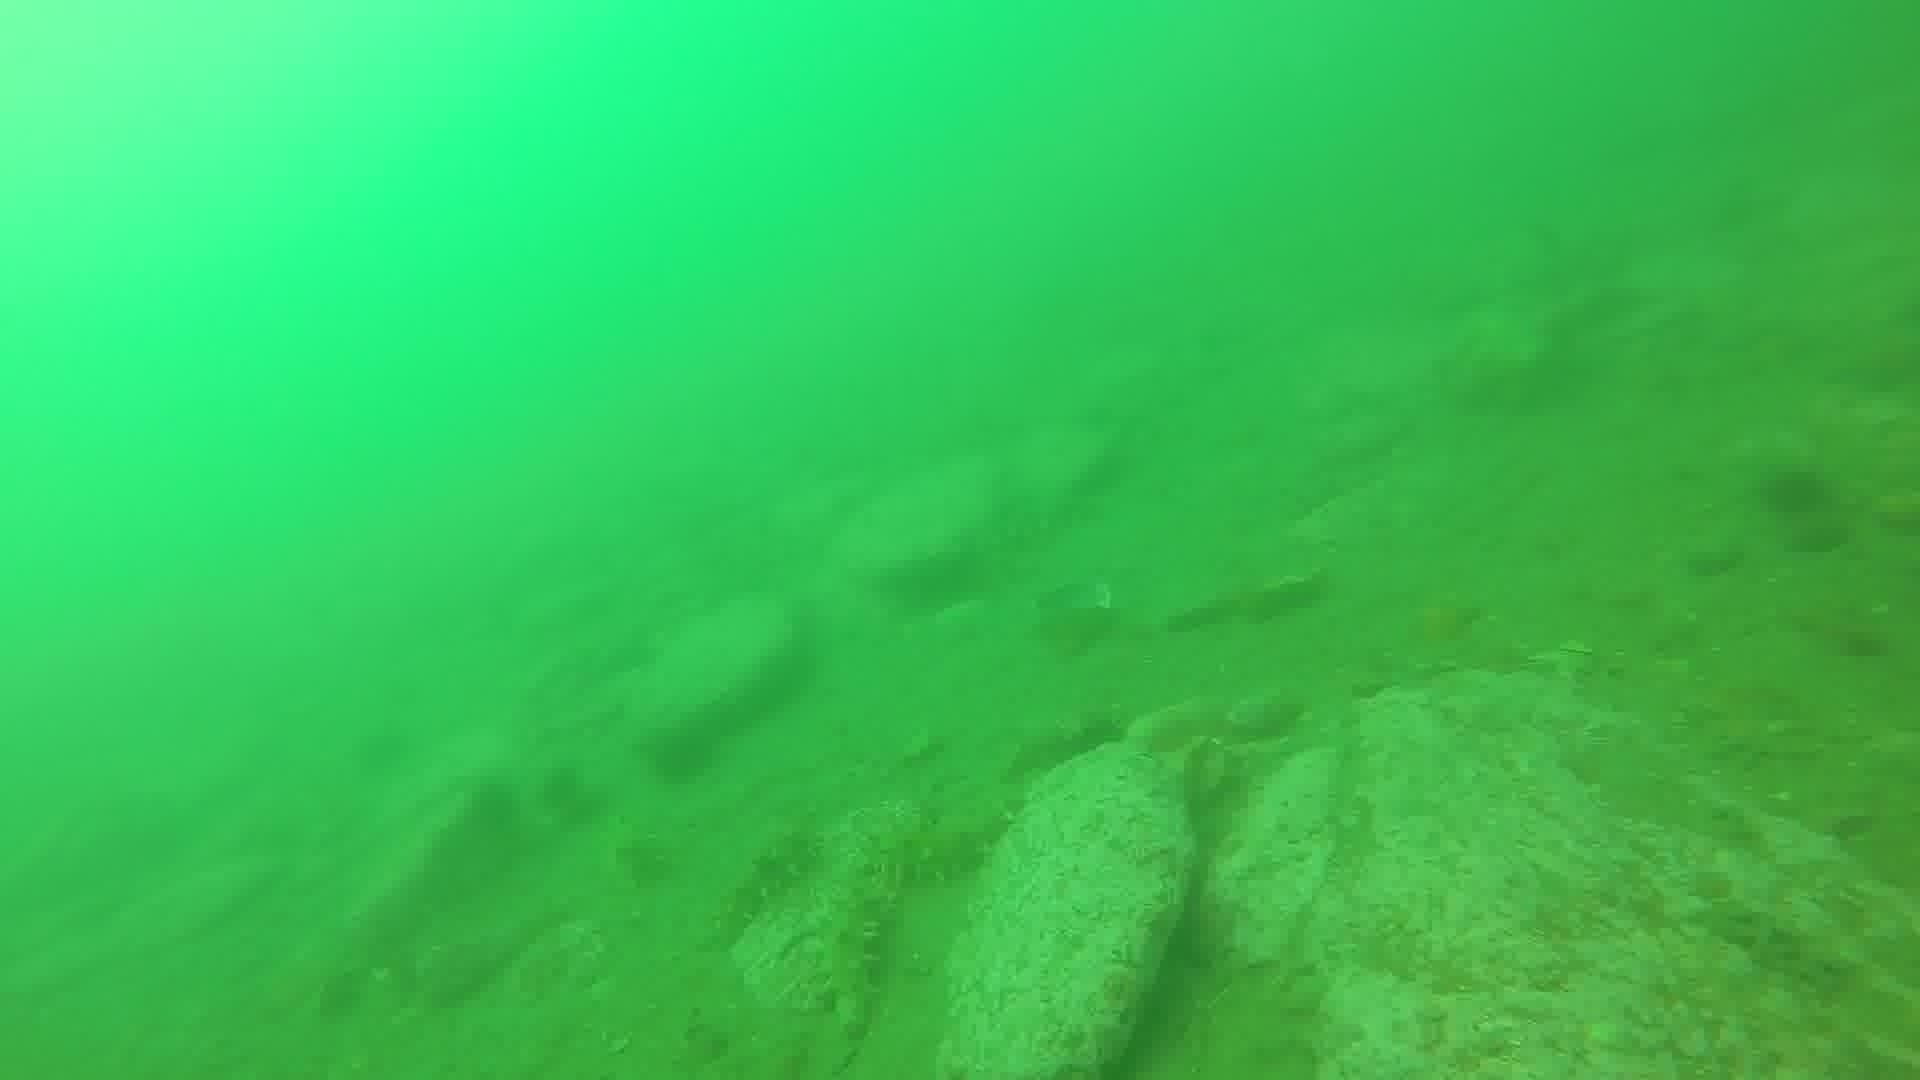echinus: (644, 717, 723, 789), (1756, 460, 1836, 524)
holothurian: (865, 777, 1029, 891), (705, 820, 825, 949), (808, 862, 895, 1040)
